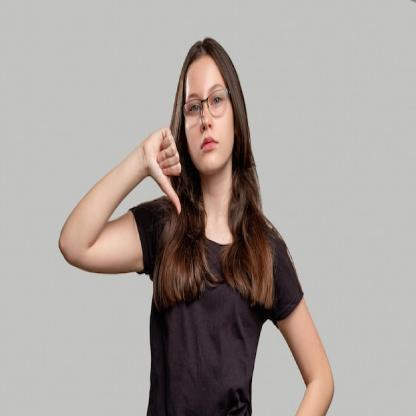thumb_down: (144, 124, 186, 219)
